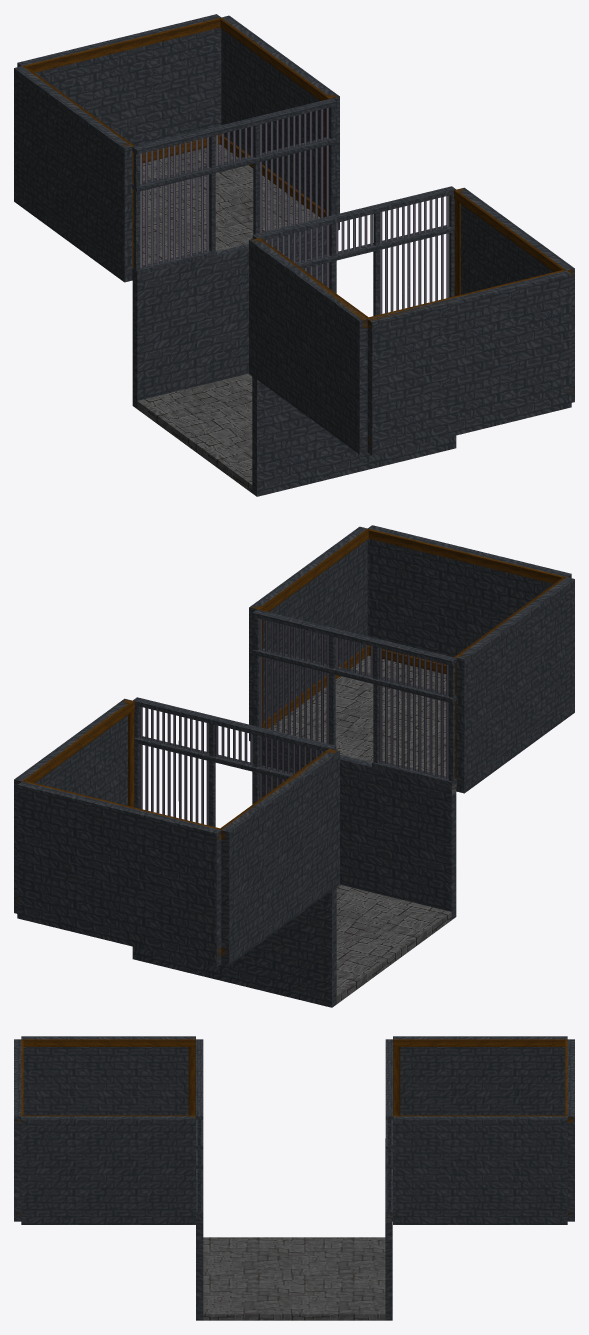
File: Flur Gefaengnis Schlucht V2.fbx
3 views of the same model, one above another, from view 1: azimuth 30°, elevation 25°; view 2: azimuth 150°, elevation 25°; view 3: azimuth 270°, elevation 25° (orthographic). The views are drawn at different scales.
Visible parts, largest first — view 1: Flur Gefängnis Schlucht V2.008, Flur Gefängnis Schlucht V2.009, Flur Gefängnis Schlucht V2.007, Flur Gefängnis Schlucht V2.010, Flur Gefängnis Schlucht V2.012, Flur Gefängnis Schlucht V2.001, Flur Gefängnis Schlucht V2.011, Flur Gefängnis Schlucht V2.006, Flur Gefängnis Schlucht V2.002, Flur Gefängnis Schlucht V2.004, Flur Gefängnis Schlucht V2, Flur Gefängnis Schlucht V2.005; view 2: Flur Gefängnis Schlucht V2.012, Flur Gefängnis Schlucht V2.007, Flur Gefängnis Schlucht V2.009, Flur Gefängnis Schlucht V2.006, Flur Gefängnis Schlucht V2.008, Flur Gefängnis Schlucht V2.002, Flur Gefängnis Schlucht V2.005, Flur Gefängnis Schlucht V2.010, Flur Gefängnis Schlucht V2.001, Flur Gefängnis Schlucht V2.003, Flur Gefängnis Schlucht V2, Flur Gefängnis Schlucht V2.011; view 3: Flur Gefängnis Schlucht V2.005, Flur Gefängnis Schlucht V2.011, Flur Gefängnis Schlucht V2, Flur Gefängnis Schlucht V2.007, Flur Gefängnis Schlucht V2.009, Flur Gefängnis Schlucht V2.008, Flur Gefängnis Schlucht V2.012, Flur Gefängnis Schlucht V2.010, Flur Gefängnis Schlucht V2.006, Flur Gefängnis Schlucht V2.001, Flur Gefängnis Schlucht V2.002.
Part boxes in pixels (left/top/right/bottom): Flur Gefängnis Schlucht V2.008: left=366, top=270, right=571, bottom=455; Flur Gefängnis Schlucht V2.009: left=14, top=65, right=134, bottom=282; Flur Gefängnis Schlucht V2.007: left=249, top=238, right=368, bottom=454; Flur Gefängnis Schlucht V2.010: left=132, top=98, right=336, bottom=275; Flur Gefängnis Schlucht V2.012: left=17, top=14, right=221, bottom=163; Flur Gefängnis Schlucht V2.001: left=132, top=229, right=336, bottom=408; Flur Gefängnis Schlucht V2.011: left=219, top=15, right=339, bottom=230; Flur Gefängnis Schlucht V2.006: left=252, top=186, right=455, bottom=315; Flur Gefängnis Schlucht V2.002: left=252, top=376, right=456, bottom=496; Flur Gefängnis Schlucht V2.004: left=132, top=144, right=320, bottom=280; Flur Gefängnis Schlucht V2: left=137, top=374, right=252, bottom=492; Flur Gefängnis Schlucht V2.005: left=454, top=187, right=574, bottom=402; Flur Gefängnis Schlucht V2.012: left=17, top=781, right=221, bottom=966; Flur Gefängnis Schlucht V2.007: left=454, top=576, right=574, bottom=793; Flur Gefängnis Schlucht V2.009: left=219, top=749, right=339, bottom=965; Flur Gefängnis Schlucht V2.006: left=252, top=609, right=456, bottom=786; Flur Gefängnis Schlucht V2.008: left=367, top=525, right=571, bottom=674; Flur Gefängnis Schlucht V2.002: left=252, top=738, right=456, bottom=919; Flur Gefängnis Schlucht V2.005: left=249, top=526, right=369, bottom=740; Flur Gefängnis Schlucht V2.010: left=133, top=697, right=336, bottom=826; Flur Gefängnis Schlucht V2.001: left=132, top=887, right=336, bottom=1007; Flur Gefängnis Schlucht V2.003: left=268, top=655, right=456, bottom=794; Flur Gefängnis Schlucht V2: left=336, top=884, right=451, bottom=1003; Flur Gefängnis Schlucht V2.011: left=14, top=698, right=134, bottom=913; Flur Gefängnis Schlucht V2.005: left=21, top=1115, right=195, bottom=1224; Flur Gefängnis Schlucht V2.011: left=393, top=1115, right=567, bottom=1224; Flur Gefängnis Schlucht V2: left=203, top=1237, right=385, bottom=1320; Flur Gefängnis Schlucht V2.007: left=21, top=1036, right=195, bottom=1115; Flur Gefängnis Schlucht V2.009: left=393, top=1036, right=567, bottom=1115; Flur Gefängnis Schlucht V2.008: left=14, top=1039, right=23, bottom=1221; Flur Gefängnis Schlucht V2.012: left=565, top=1039, right=574, bottom=1221; Flur Gefängnis Schlucht V2.010: left=385, top=1039, right=392, bottom=1221; Flur Gefängnis Schlucht V2.006: left=196, top=1039, right=203, bottom=1215; Flur Gefängnis Schlucht V2.001: left=385, top=1138, right=392, bottom=1320; Flur Gefängnis Schlucht V2.002: left=196, top=1169, right=203, bottom=1320.
Size of the model in its own units: 540 by 1541 by 620.
Materials: 2 (2 with a texture image).
